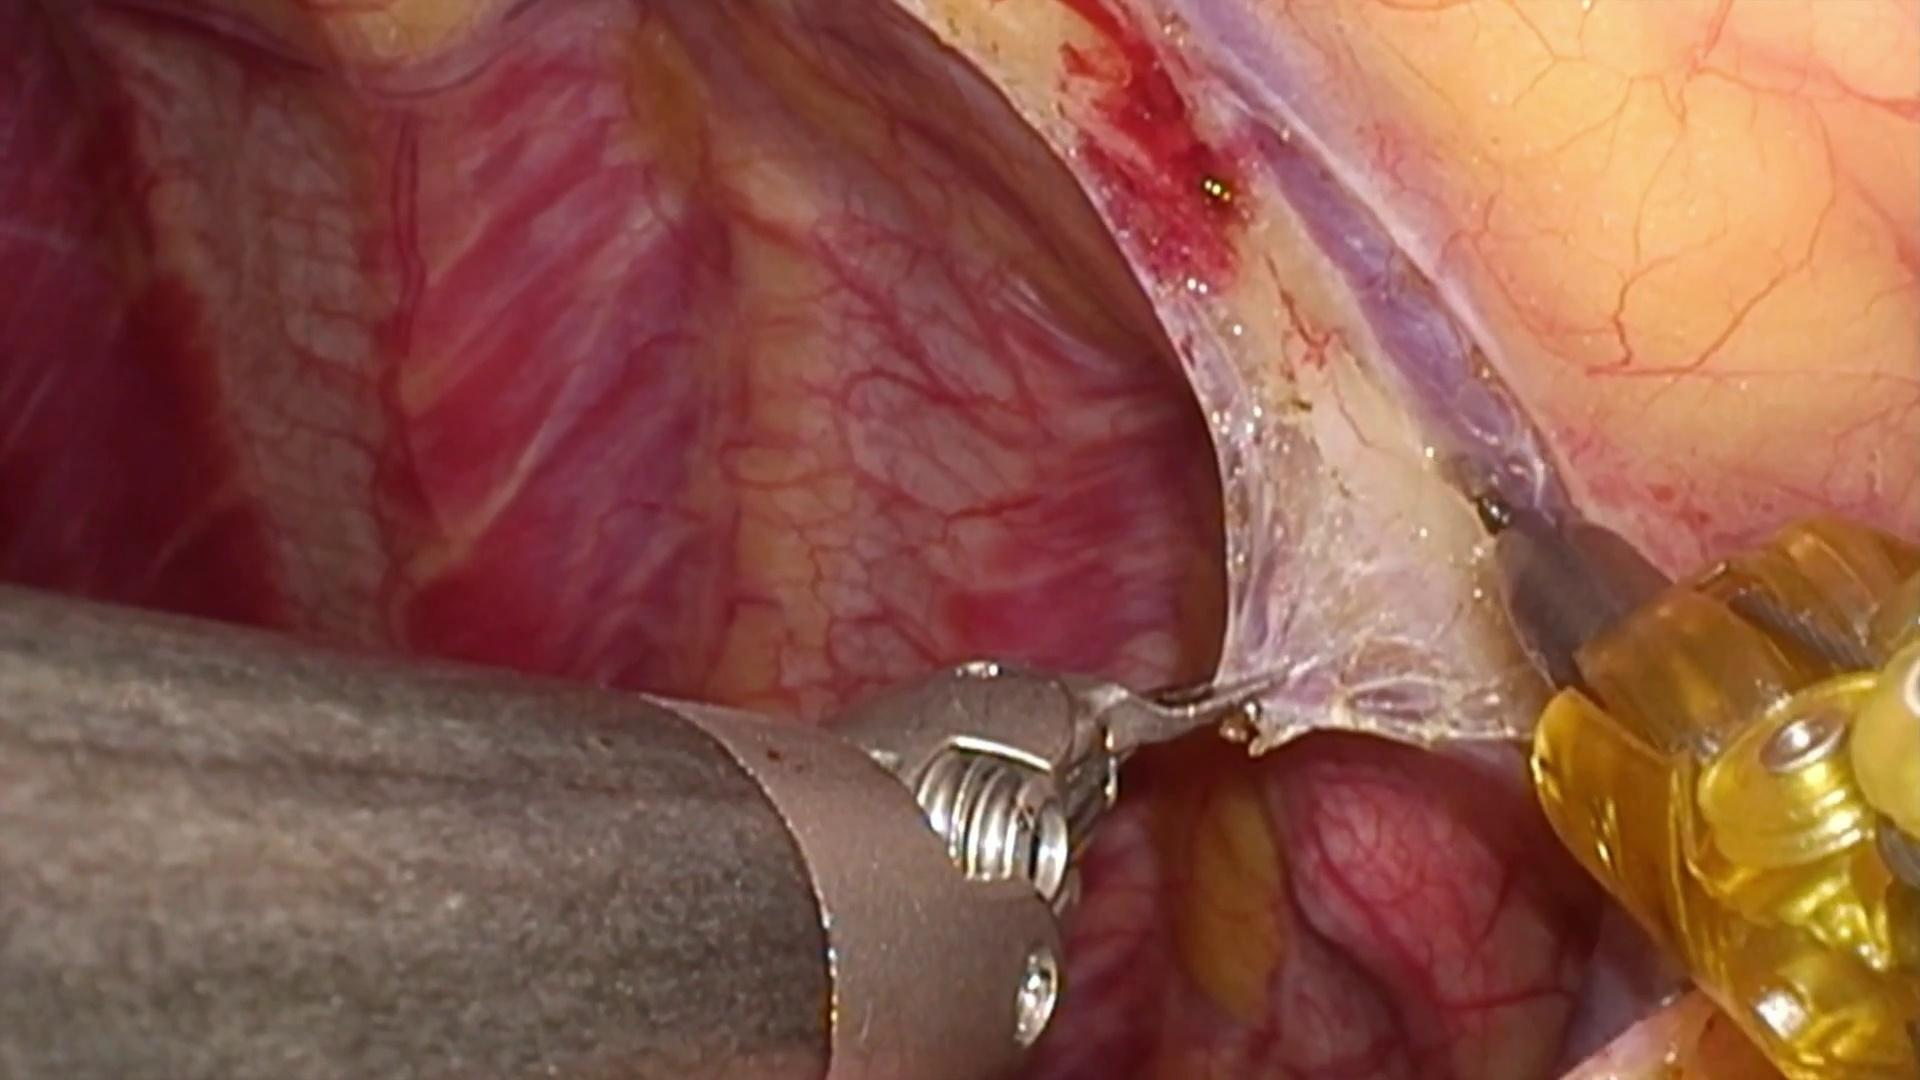Cautery_Spatula: (1424, 448, 1700, 712)
Debakey: (1048, 657, 1295, 800)
